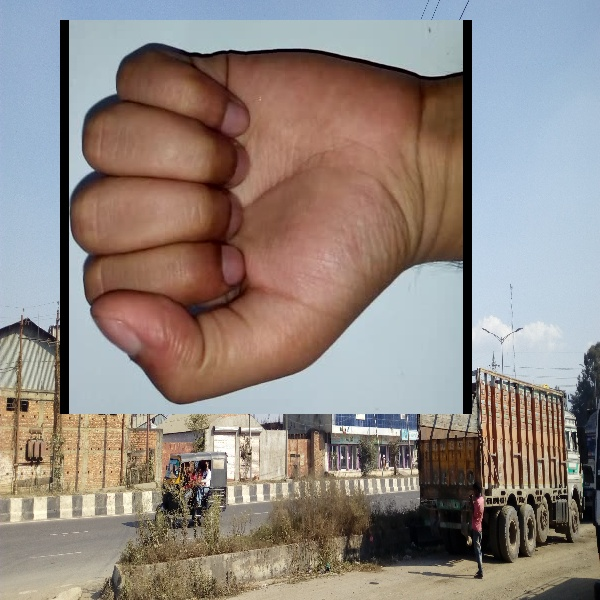A: (60, 20, 472, 414)
